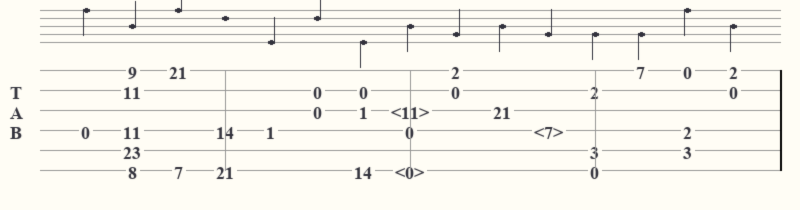0: (81, 122, 94, 138), (313, 102, 326, 118), (313, 82, 326, 98), (359, 82, 372, 98), (405, 122, 418, 138), (451, 82, 464, 98), (590, 162, 603, 178), (683, 62, 696, 78), (729, 82, 742, 98)
1: (266, 122, 279, 138), (359, 102, 372, 118)
11: (123, 82, 145, 98), (123, 122, 145, 138)
14: (216, 122, 238, 138), (354, 162, 376, 178)
2: (451, 62, 464, 78), (590, 82, 603, 98), (683, 122, 696, 138), (729, 62, 742, 78)
21: (169, 62, 191, 78), (216, 162, 238, 178), (493, 102, 515, 118)
23: (123, 142, 145, 158)
3: (590, 142, 603, 158), (683, 142, 696, 158)
7: (174, 162, 187, 178), (636, 62, 649, 78)
8: (128, 162, 141, 178)
9: (128, 62, 141, 78)
harmonic: (391, 102, 433, 118), (395, 162, 428, 178), (534, 122, 567, 138)
